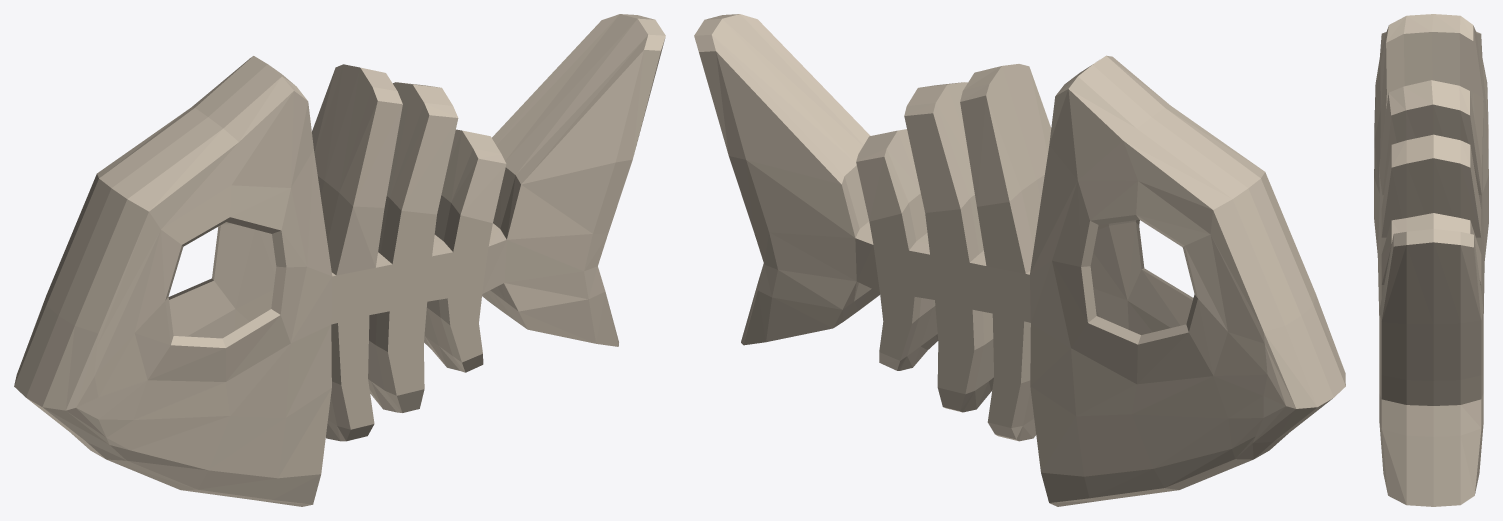
The model's file is Fisch.fbx.
3 renders of one model, left to right at view 1: azimuth 30°, elevation 25°; view 2: azimuth 150°, elevation 25°; view 3: azimuth 270°, elevation 25°, orthographic. The views are drawn at different scales.
Parts seen in each view (by area): view 1: Fisch; view 2: Fisch; view 3: Fisch.
Boxes of the visible parts, <box> form: Fisch: <box>14,14,665,506</box>; Fisch: <box>694,14,1345,506</box>; Fisch: <box>1374,14,1488,506</box>.
Bounding box in the file's own units: 172 × 115 × 28.52.
